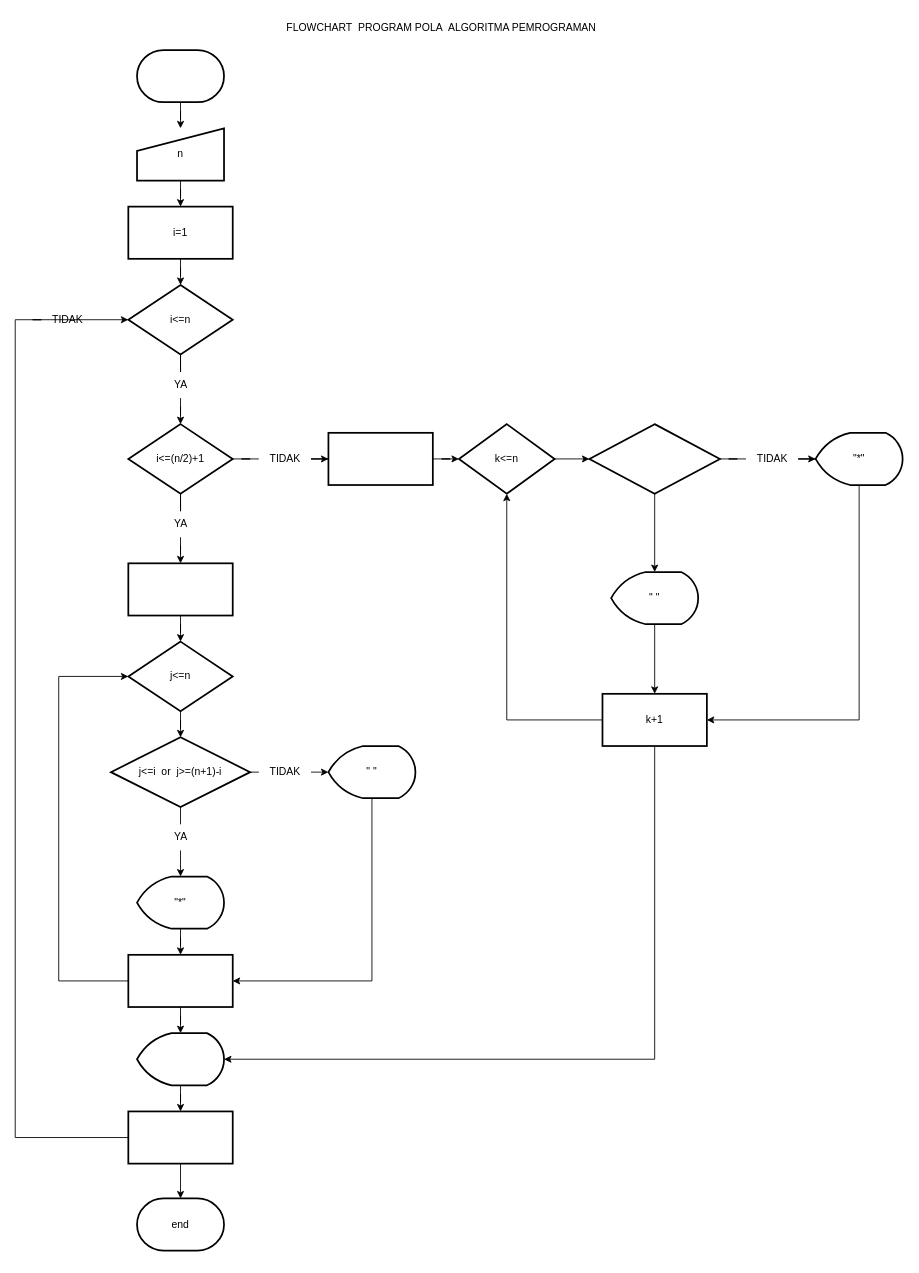
The diagram is 919 pixels wide and 1273 high, and some of its shapes have lost their labels. The centre of each missing label's shape, as x and y in pixels:
\n: (180,1059)
i = i + 1: (180,1137)
j = j + 1: (180,980)
j=1: (180,589)
k=1: (380,458)
k>=i or k<=(n+1)-i: (654,458)
start: (180,76)
